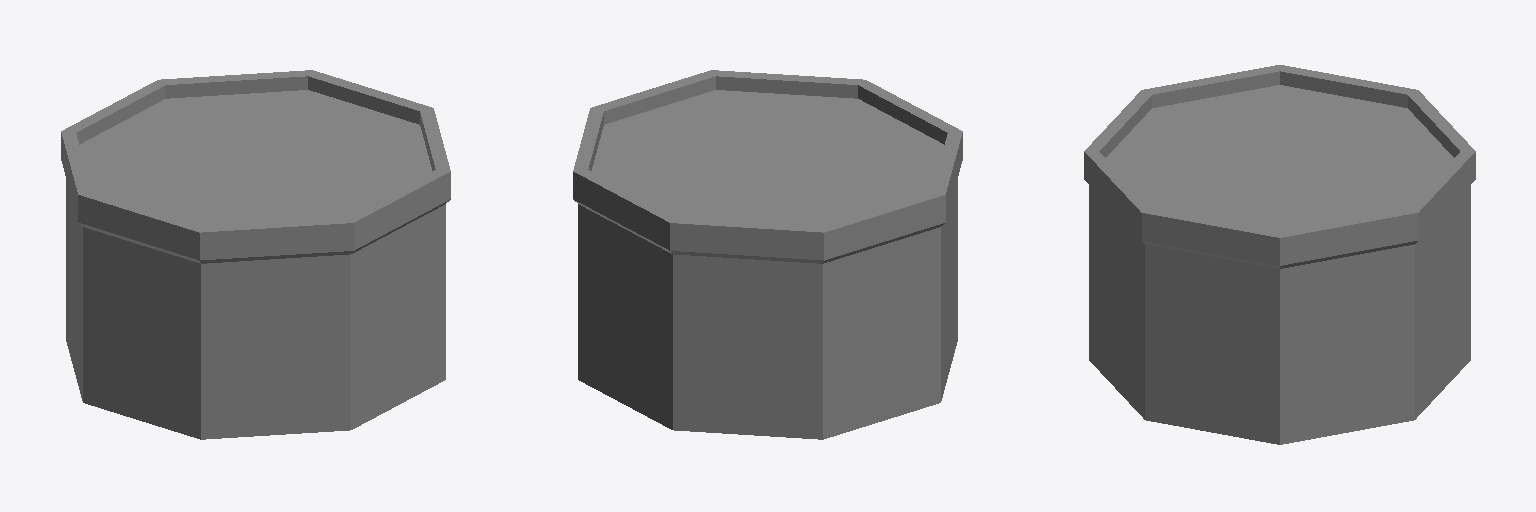
File: dados_mesa.obj
3 renders of one model, left to right at view 1: azimuth 30°, elevation 25°; view 2: azimuth 150°, elevation 25°; view 3: azimuth 270°, elevation 25°, orthographic.
Visible parts, largest first — view 1: pCylinder2; view 2: pCylinder2; view 3: pCylinder2.
Boxes of the visible parts, x1,y1,x2,y2 form: pCylinder2: [61, 70, 450, 439]; pCylinder2: [573, 70, 962, 439]; pCylinder2: [1084, 65, 1475, 444].
Size of the model in its own units: 14.34 by 8.07 by 13.68.